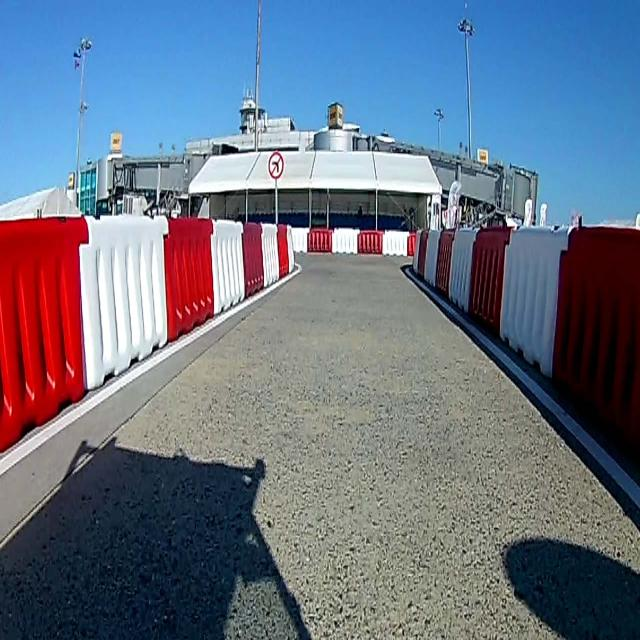soladonulmez: (269, 152, 284, 177)
